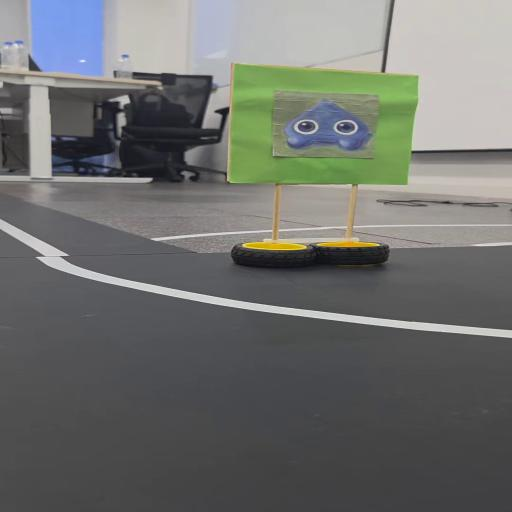Sign_B: (223, 58, 409, 272)
